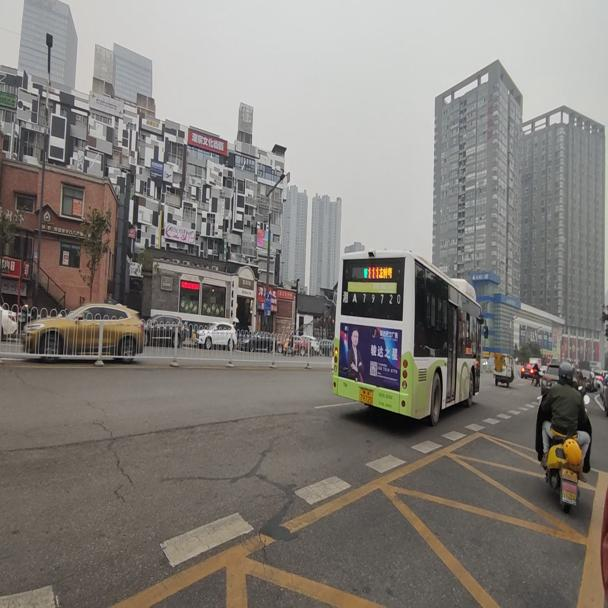bus: (332, 244, 490, 425)
screen: (365, 261, 380, 279)
